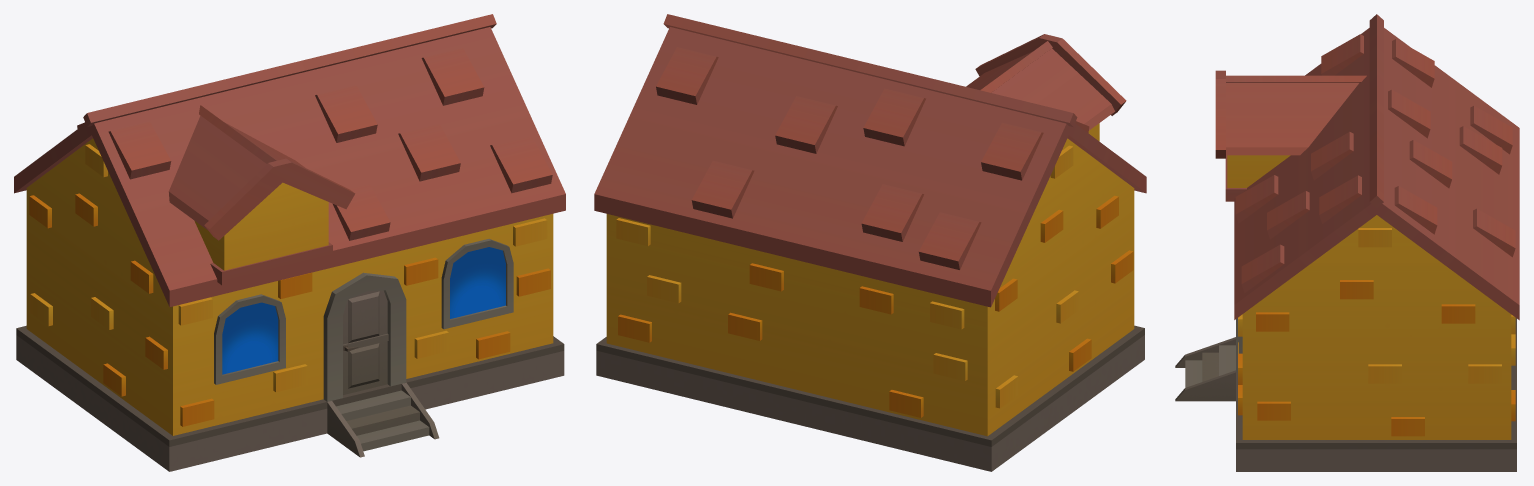
File: SM_House_2.FBX
3 renders of one model, left to right at view 1: azimuth 30°, elevation 25°; view 2: azimuth 150°, elevation 25°; view 3: azimuth 270°, elevation 25°, orthographic. The views are drawn at different scales.
Visible parts, largest first — view 1: SM_House_2; view 2: SM_House_2; view 3: SM_House_2.
Boxes of the visible parts, x1,y1,x2,y2 form: SM_House_2: (14, 14, 565, 471); SM_House_2: (594, 14, 1146, 471); SM_House_2: (1175, 14, 1519, 471).
Size of what is drawn, in the model's own units: 896 by 717 by 641.
